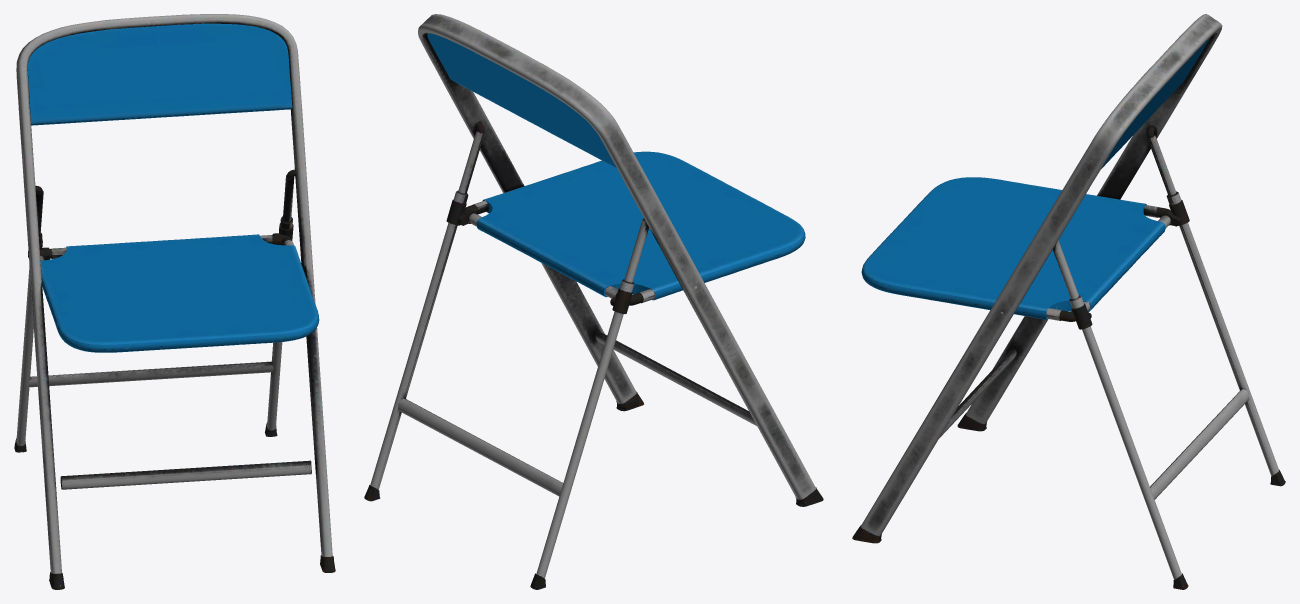
Rendered from chair-transformed.glb.
3 views of the same model, side by side, from view 1: azimuth 30°, elevation 25°; view 2: azimuth 150°, elevation 25°; view 3: azimuth 270°, elevation 25° (orthographic). The views are drawn at different scales.
Parts seen in each view (by area): view 1: Object_2; view 2: Object_2; view 3: Object_2.
Boxes of the visible parts, left/top/right/bottom form: Object_2: left=14, top=14, right=335, bottom=589; Object_2: left=364, top=14, right=823, bottom=589; Object_2: left=852, top=14, right=1285, bottom=589.
Size of the model in its own units: 675 by 888 by 740.
1 material, 1 textured.
